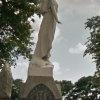Statue: (23, 0, 65, 88)
